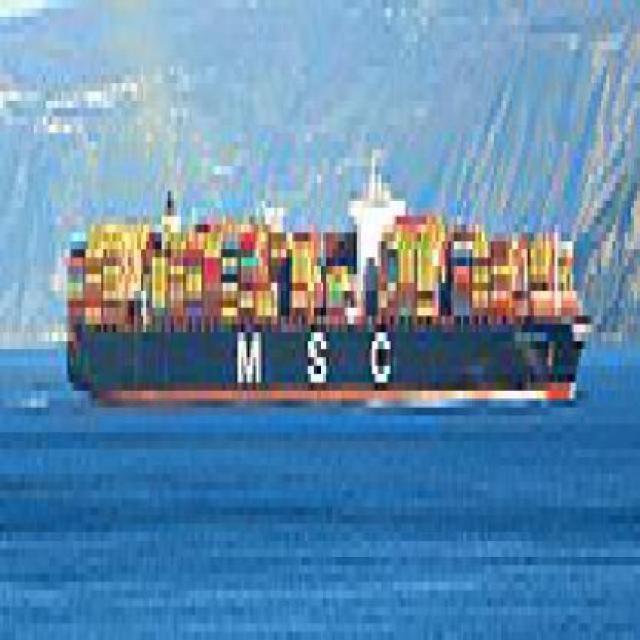container: (56, 176, 596, 425)
